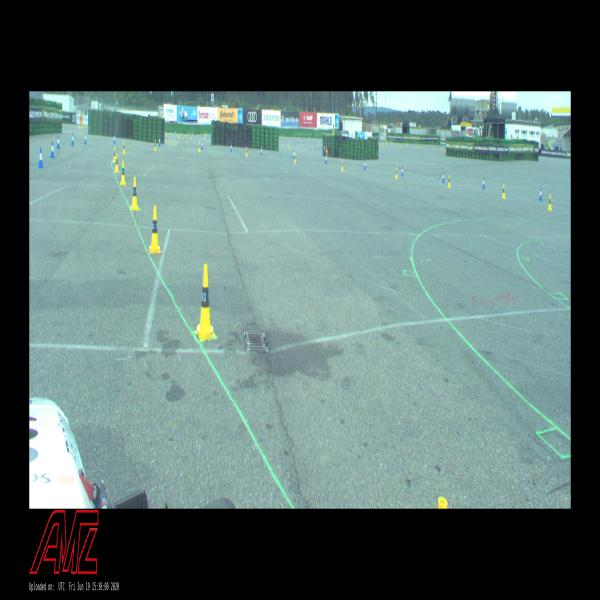blue_cone: (38, 148, 43, 168), (50, 142, 54, 157), (57, 135, 60, 149), (539, 188, 542, 200), (71, 133, 74, 145), (84, 133, 87, 144), (401, 166, 404, 176), (482, 178, 485, 188), (113, 134, 116, 144), (363, 160, 366, 170), (442, 171, 444, 182), (201, 140, 203, 150), (325, 154, 327, 164), (230, 143, 232, 152), (158, 137, 160, 146), (292, 150, 294, 158), (261, 147, 262, 155), (324, 146, 325, 153), (193, 134, 194, 138), (294, 142, 295, 146), (410, 143, 411, 147), (421, 144, 422, 148), (305, 139, 306, 142), (283, 138, 284, 140), (202, 132, 202, 135), (280, 140, 280, 144), (295, 137, 295, 141), (316, 142, 316, 146), (315, 139, 315, 143), (431, 145, 431, 149), (175, 132, 175, 135), (208, 134, 208, 138)
orange_cone: (185, 134, 186, 138), (390, 141, 391, 144), (312, 146, 312, 150)
yellow_cone: (195, 265, 215, 340), (149, 206, 161, 252), (131, 178, 138, 210), (120, 161, 126, 185), (114, 154, 118, 172), (548, 194, 552, 210), (122, 141, 126, 154), (113, 147, 116, 161), (502, 184, 505, 198), (395, 167, 398, 179), (154, 140, 157, 150), (198, 142, 201, 152), (448, 175, 450, 187), (246, 146, 248, 157), (341, 160, 343, 171), (294, 153, 296, 163), (316, 142, 318, 146), (326, 145, 327, 152), (204, 134, 205, 140), (312, 145, 313, 150), (166, 131, 167, 136), (179, 135, 180, 140), (302, 142, 303, 146), (191, 134, 192, 138), (289, 143, 290, 147), (78, 124, 79, 128), (299, 136, 300, 140), (379, 145, 380, 149), (383, 142, 384, 146), (417, 144, 418, 148), (445, 146, 446, 150), (309, 137, 310, 141), (294, 134, 295, 138), (205, 130, 206, 134), (398, 142, 399, 146), (407, 143, 408, 146), (422, 145, 423, 148), (441, 147, 442, 150), (285, 136, 286, 139), (281, 134, 282, 137), (192, 132, 193, 135), (179, 133, 179, 138), (288, 141, 288, 145), (80, 123, 80, 128), (82, 123, 82, 128), (386, 142, 386, 146), (400, 144, 400, 148), (406, 142, 406, 146), (434, 146, 434, 149), (432, 146, 432, 149), (189, 132, 189, 135), (182, 130, 182, 134), (392, 140, 392, 144)
